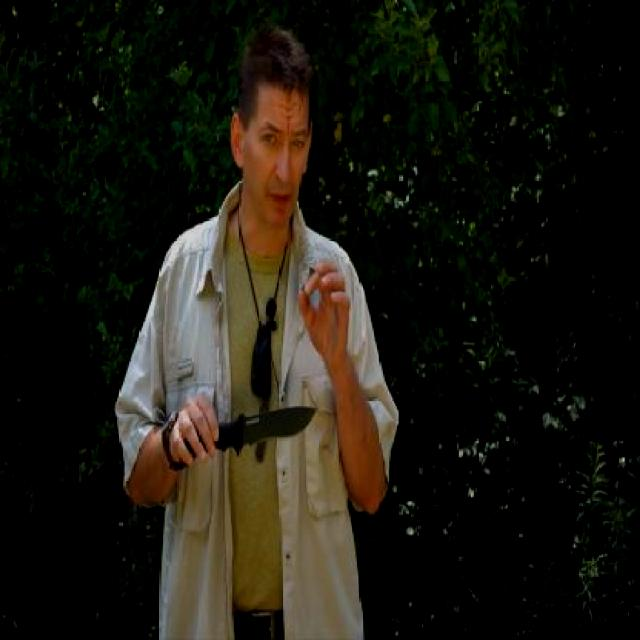knife: (177, 389, 320, 471)
